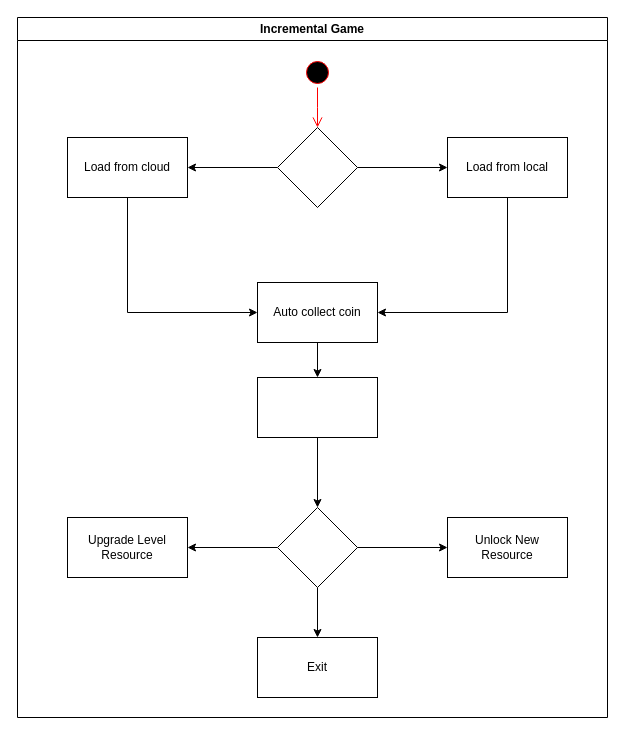
Some shapes in this 625 by 735 pixel diagram are drawn without their labels. Here are the shapes that lost their labels. From the top down, the centre of each, then its label:
the point at 317,167: Load data
the point at 317,407: Tap to collect coin
the point at 317,547: is gold enough
